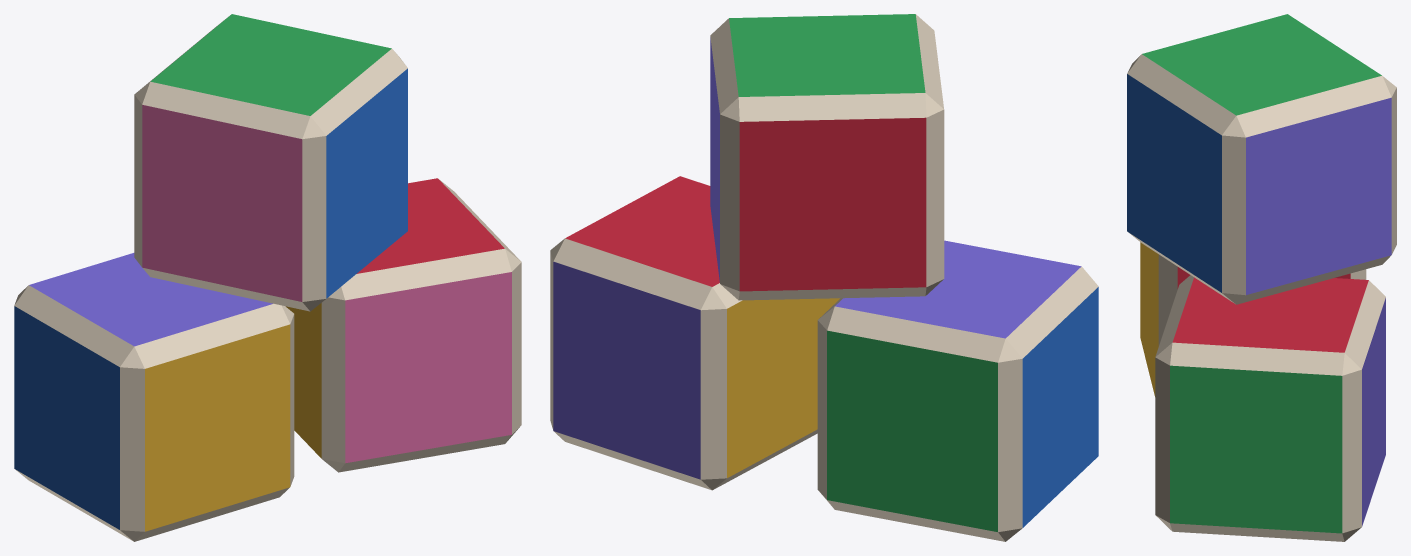
The model's file is Toy_Blocks.glb.
The picture shows the model from 3 angles, left to right: view 1: azimuth 30°, elevation 25°; view 2: azimuth 150°, elevation 25°; view 3: azimuth 270°, elevation 25°; orthographic projection. The views are drawn at different scales.
Parts seen in each view (by area): view 1: Toy_Blocks; view 2: Toy_Blocks; view 3: Toy_Blocks.
Part boxes in pixels (x1=…): Toy_Blocks: x1=14, y1=14, x2=521, y2=541; Toy_Blocks: x1=550, y1=14, x2=1098, y2=541; Toy_Blocks: x1=1127, y1=14, x2=1396, y2=541.
Bounding box in the file's own units: 2.87 × 2.4 × 1.55.
